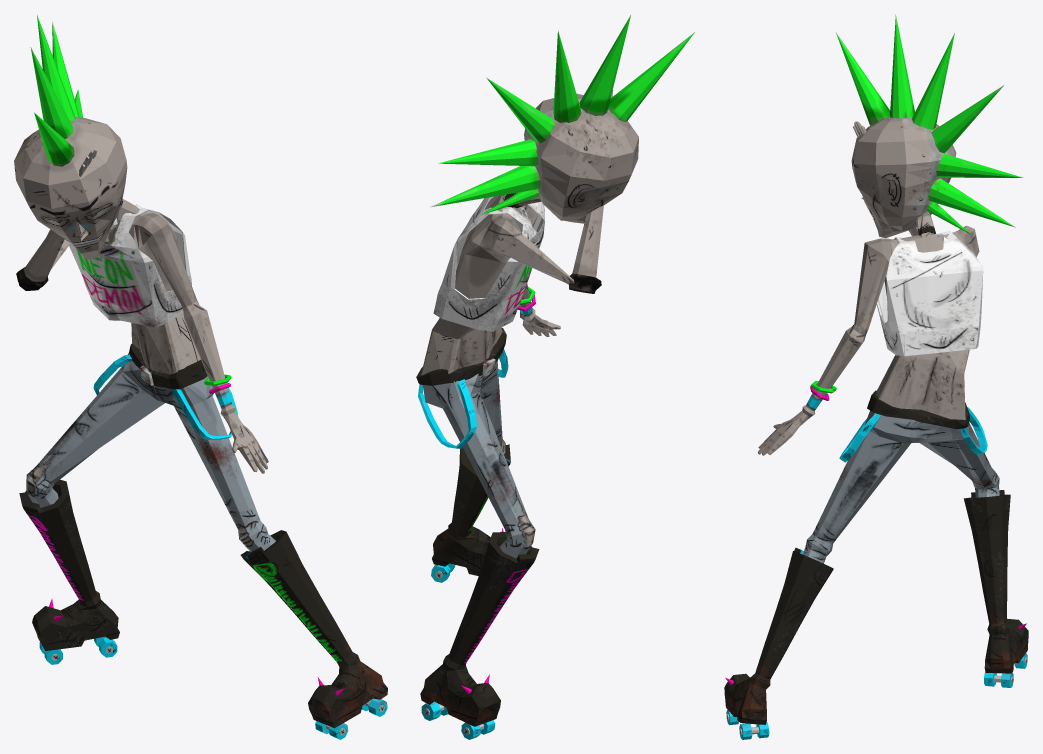
Rendered from punkAnimation_000027.obj.
3 views of the same model, side by side, from view 1: azimuth 30°, elevation 25°; view 2: azimuth 150°, elevation 25°; view 3: azimuth 270°, elevation 25° (orthographic). The views are drawn at different scales.
Visible parts, largest first — view 1: Cube.004_Cube.003; view 2: Cube.004_Cube.003; view 3: Cube.004_Cube.003.
Part boxes in pixels (bbox=[...]): Cube.004_Cube.003: bbox=[14, 15, 387, 739]; Cube.004_Cube.003: bbox=[416, 15, 694, 739]; Cube.004_Cube.003: bbox=[724, 14, 1028, 739].
Size of the model in its own units: 3.13 by 6.72 by 3.01.
